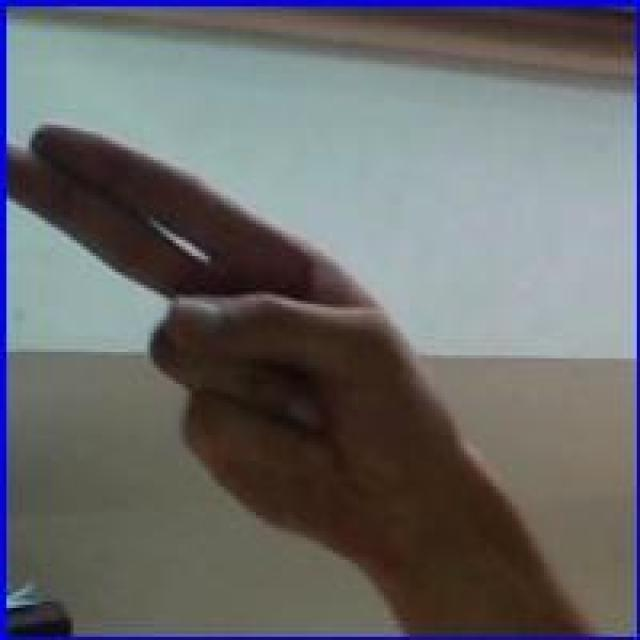H: (10, 103, 458, 566)
